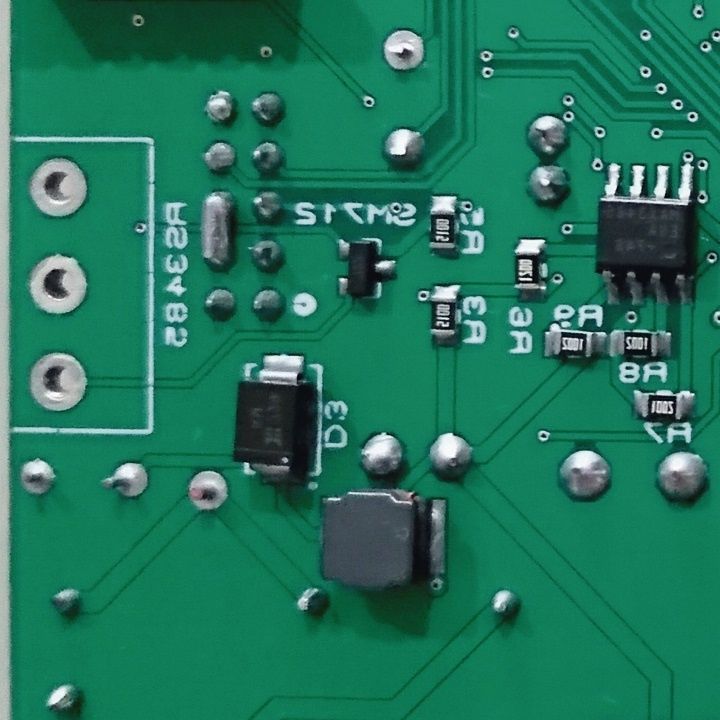F: (25, 252, 92, 322), (24, 155, 92, 222), (28, 351, 90, 416), (97, 457, 152, 500), (379, 27, 427, 75), (185, 467, 230, 516), (19, 454, 58, 498)
P: (196, 186, 236, 278)
